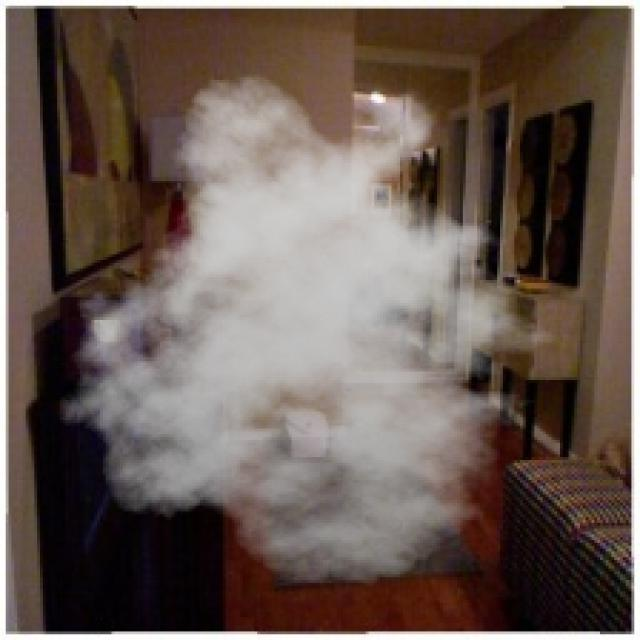smoke: (46, 71, 577, 586)
